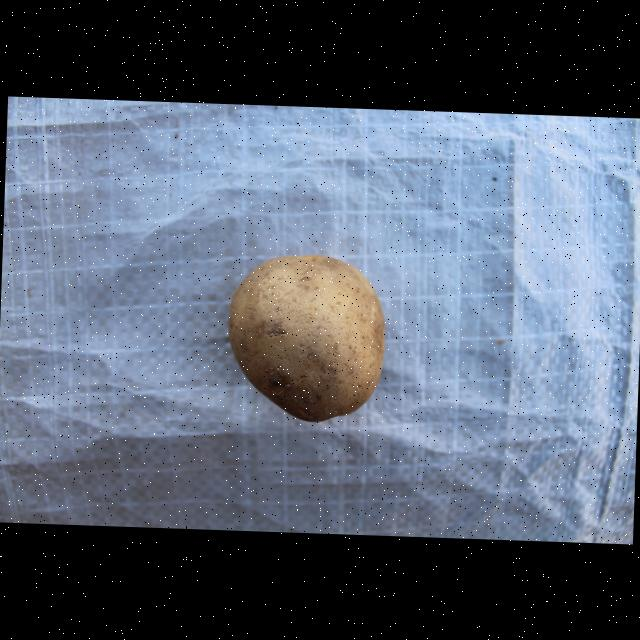Diseased-fungal potato: (221, 244, 394, 428)
